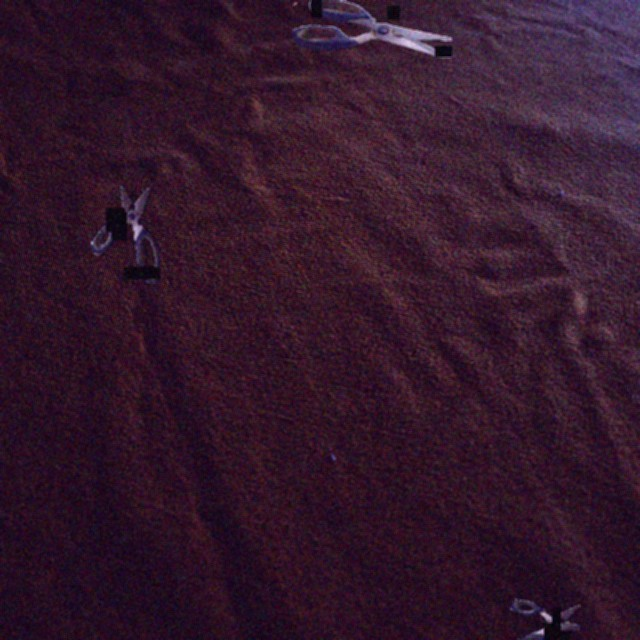scissors: (293, 0, 452, 58), (91, 184, 160, 283), (509, 599, 580, 640)
